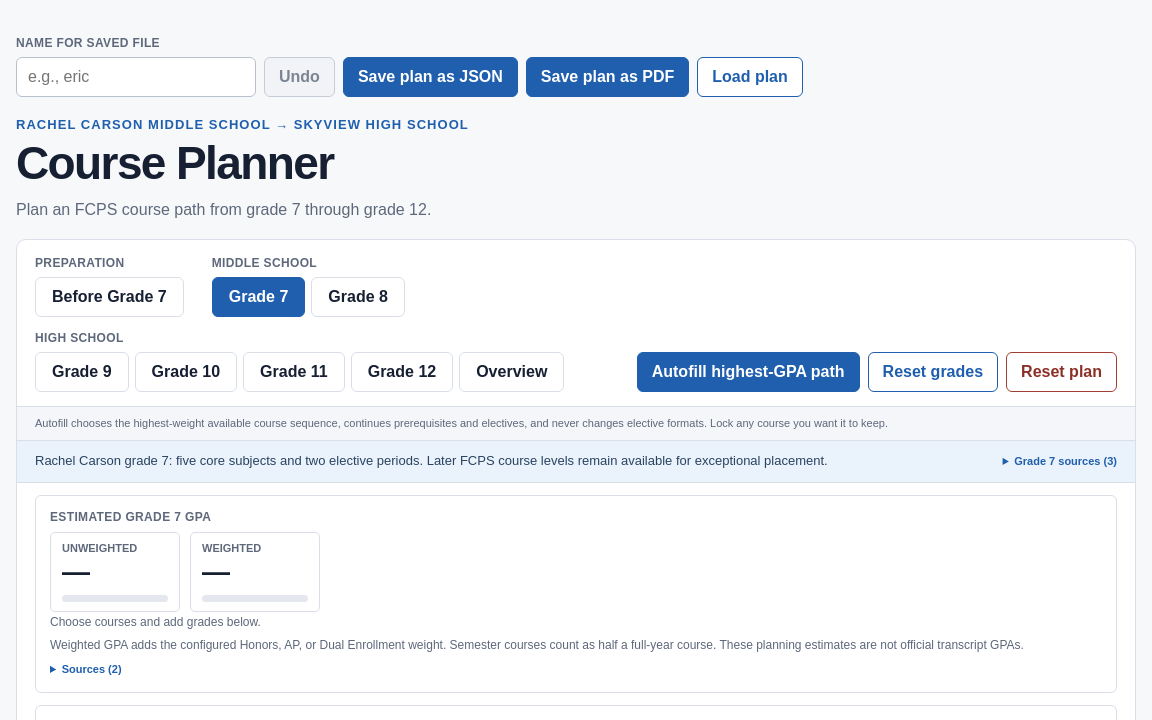
it: course versions, grades, and GPA display › includes graded pre-grade-7 high-school-credit work in the final GPA
Click the button "Overview". click: (512, 372)
box: [459,352,564,392]
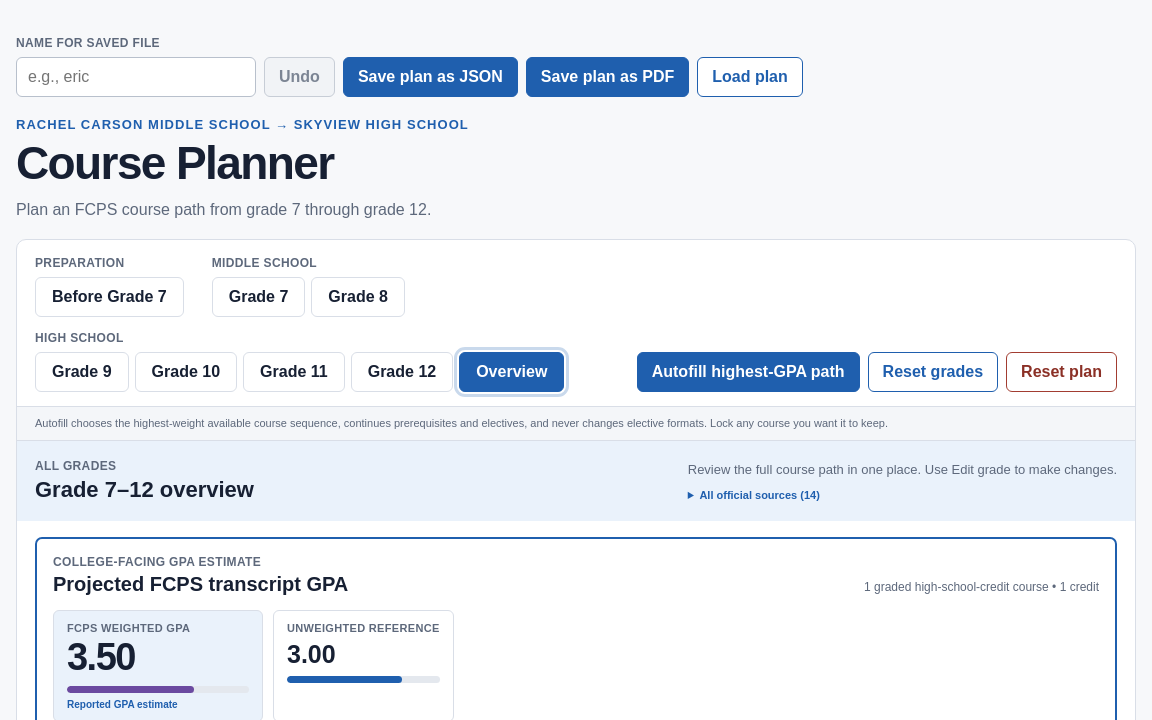
expect the text "3.50" is shown: met, box [67,636,135,678]
expect the text "3.00" is shown: met, box [287,640,336,668]
